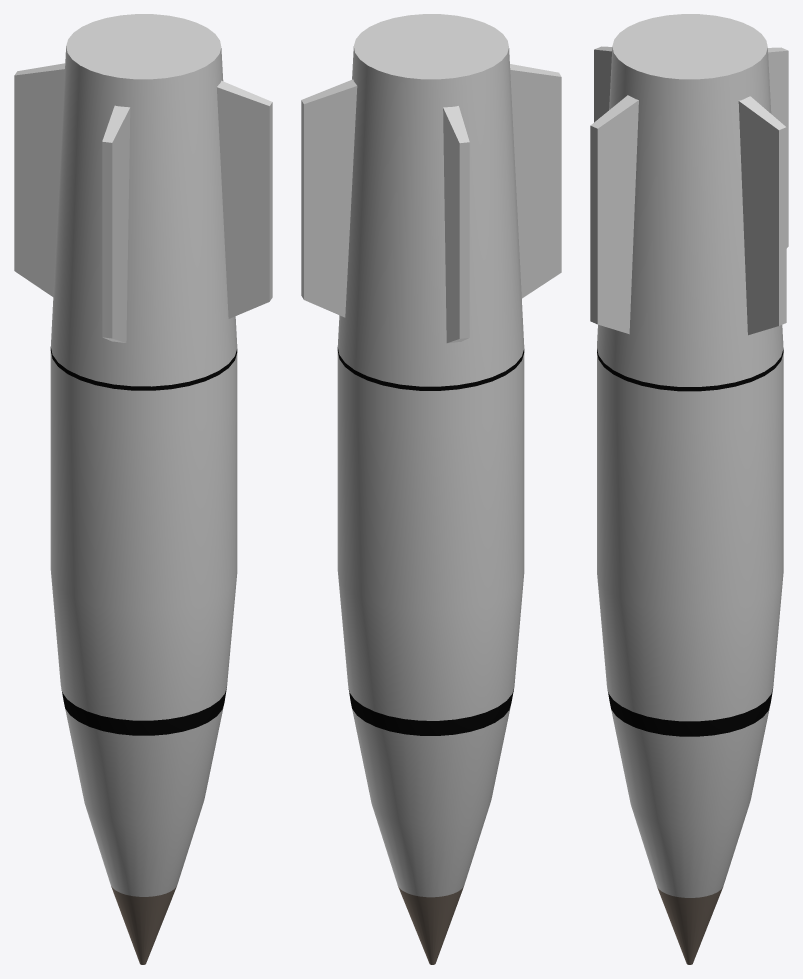
The picture shows the model from 3 angles, left to right: view 1: azimuth 30°, elevation 25°; view 2: azimuth 150°, elevation 25°; view 3: azimuth 270°, elevation 25°; orthographic projection.
Parts seen in each view (by area): view 1: Object02; view 2: Object02; view 3: Object02.
Part boxes in pixels (x1,y1,x2,y2): Object02: (14,14,272,964); Object02: (301,14,561,964); Object02: (590,14,788,964).
Size of the model in its own units: 10.62 by 54.23 by 10.61.
